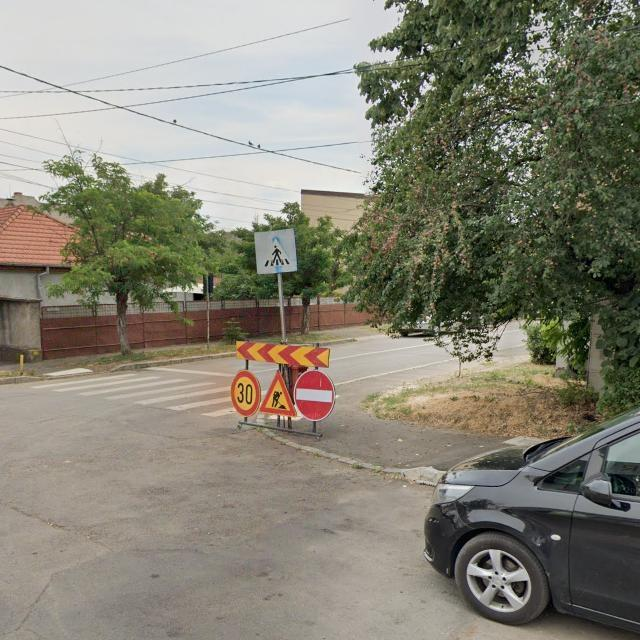forb_speed_over_30: (231, 371, 261, 417)
info_crosswalk: (255, 229, 298, 275)
